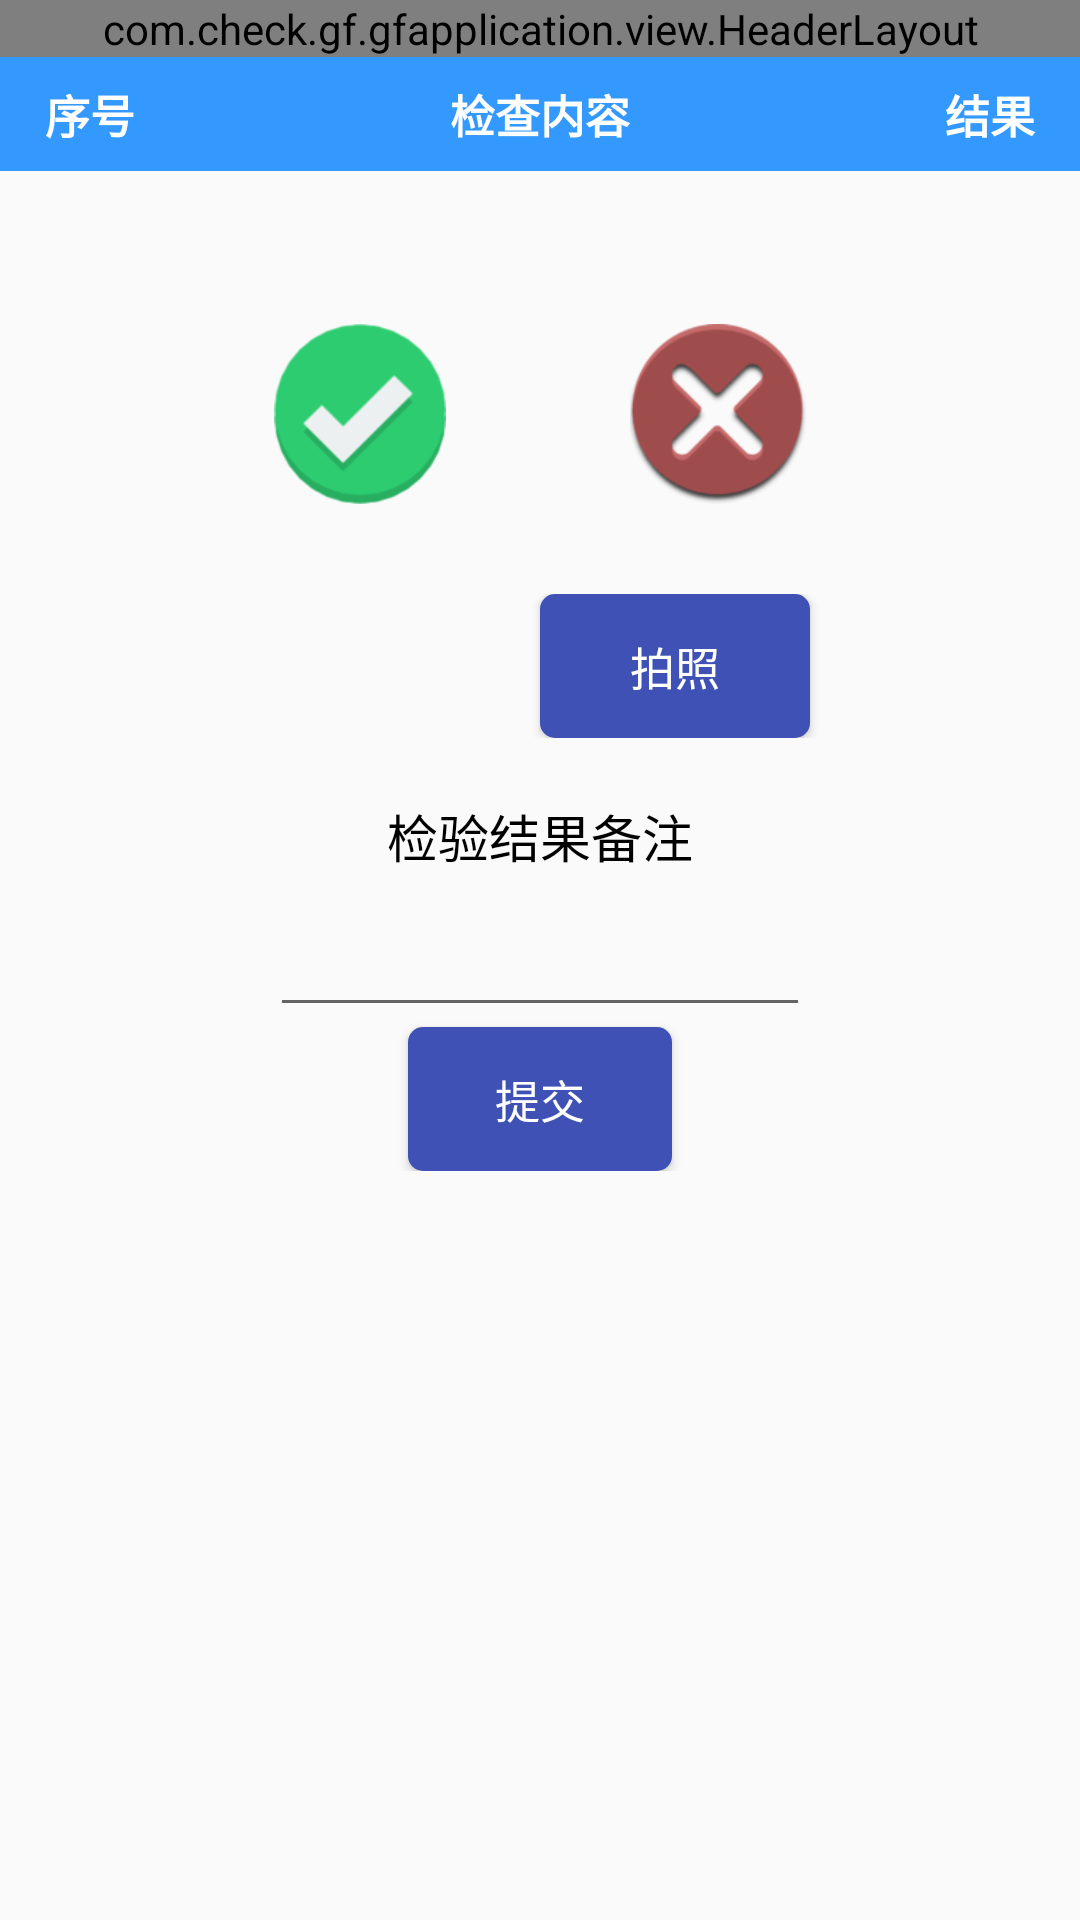

Where to tap for icons on this 1080px x 1920px app screen, as (x=x, y=y):
check: (x=360, y=414)
uncheck: (x=717, y=413)
